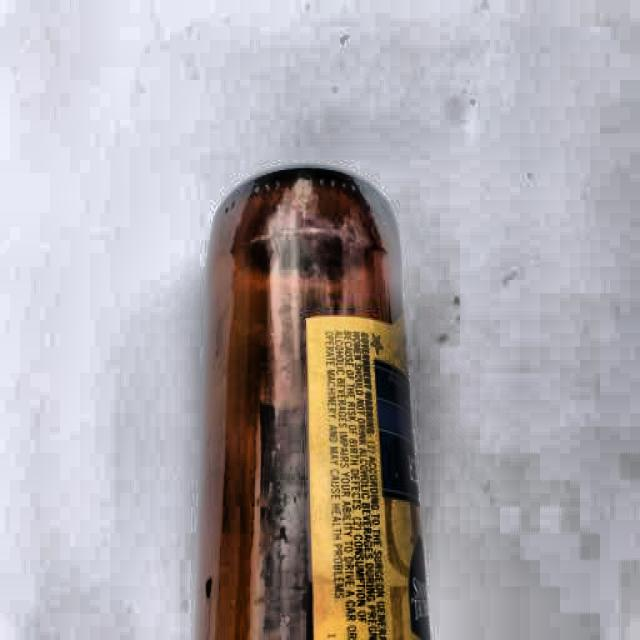glass: (192, 154, 438, 640)
